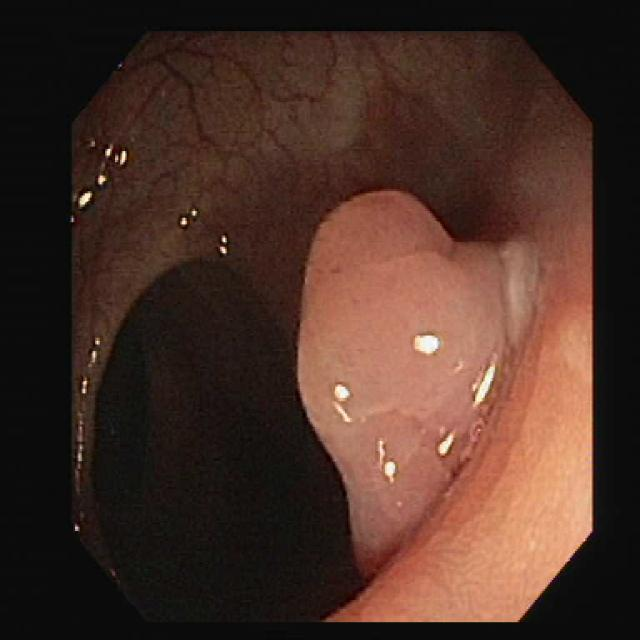tumor: (298, 196, 503, 573)
